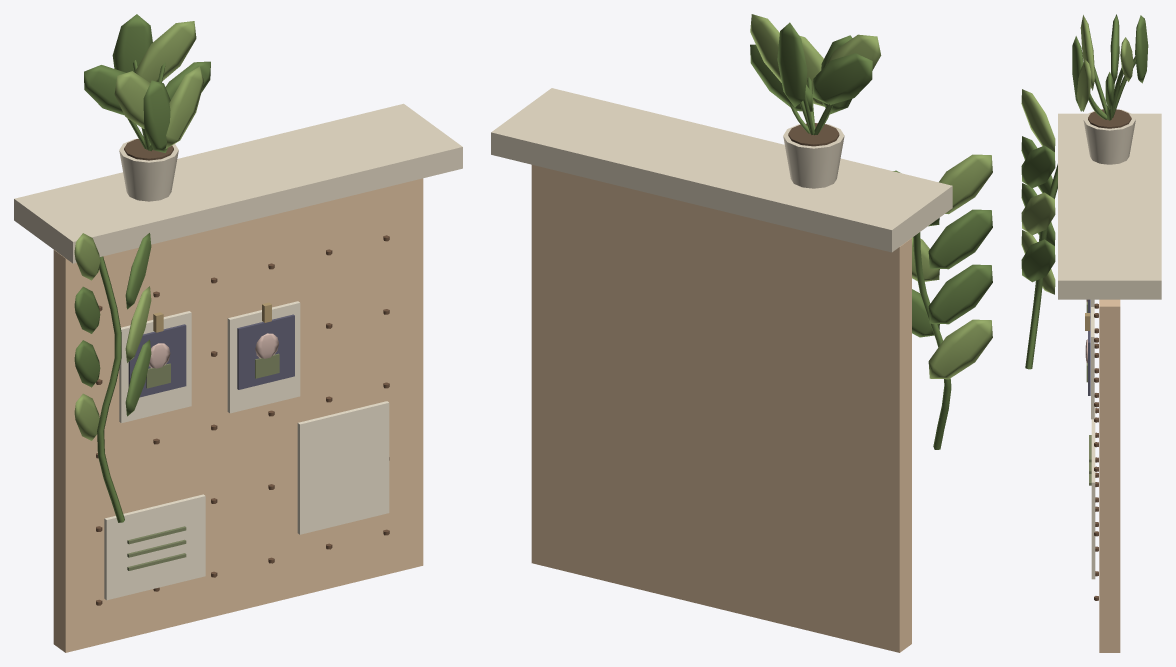
Rendered from study_ref_memo.glb.
3 renders of one model, left to right at view 1: azimuth 30°, elevation 25°; view 2: azimuth 150°, elevation 25°; view 3: azimuth 270°, elevation 25°, orthographic. The views are drawn at different scales.
Size of the model in its own units: 1.28 by 1.79 by 0.4324.
